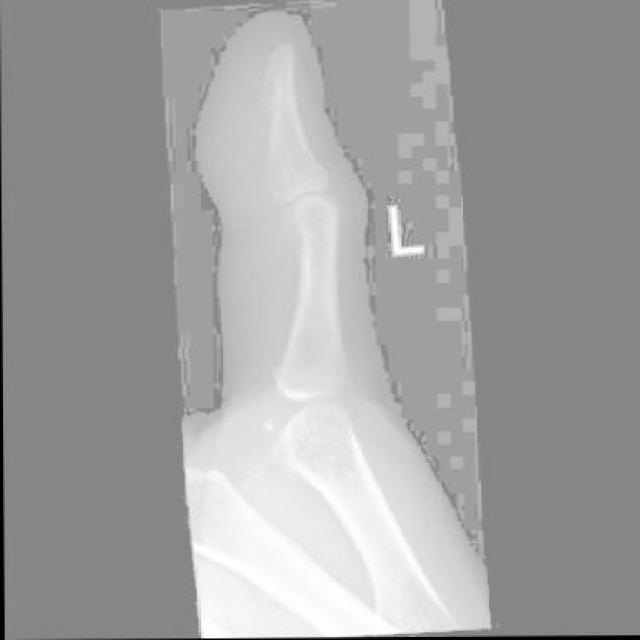Fracture: (252, 68, 296, 119)
